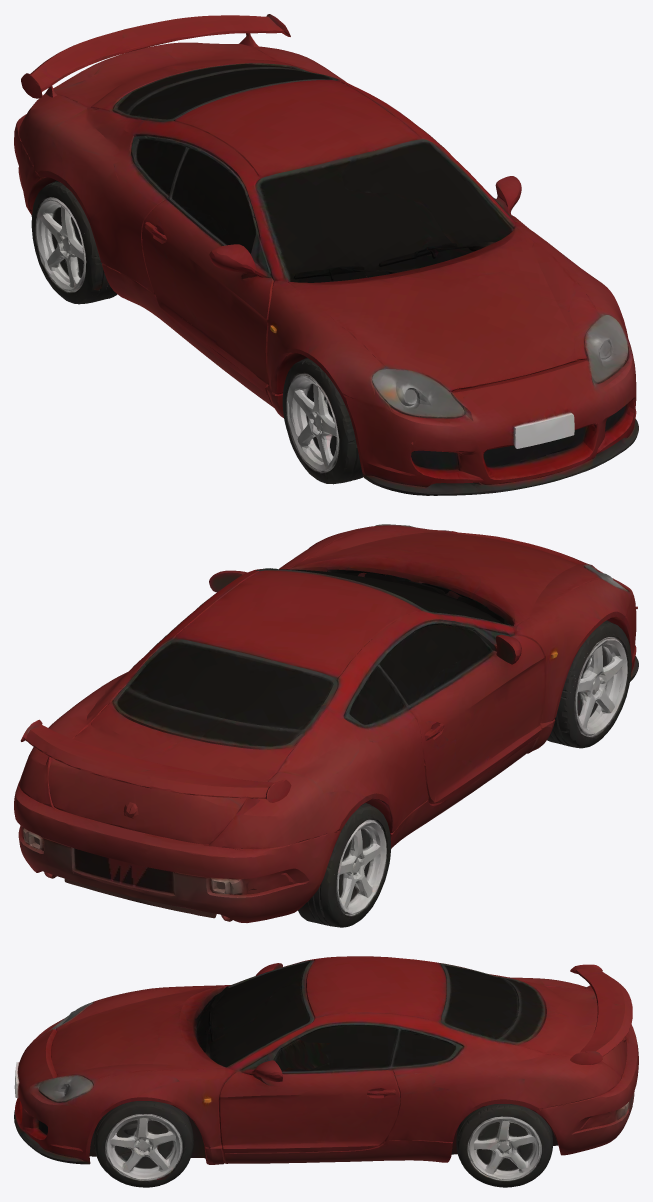
The model's file is fw_veh_coupe_vento_lod0.glb.
3 renders of one model, top to bottom at view 1: azimuth 30°, elevation 25°; view 2: azimuth 150°, elevation 25°; view 3: azimuth 270°, elevation 25°, orthographic. The views are drawn at different scales.
Visible parts, largest first — view 1: body, wheel_rr, wheel_rf; view 2: body, wheel_rf, wheel_rr; view 3: body, wheel_lf, wheel_lr.
Boxes of the visible parts, x1,y1,x2,y2 form: body: [14, 14, 638, 495]; wheel_rr: [31, 190, 117, 304]; wheel_rf: [282, 369, 359, 484]; body: [14, 524, 638, 923]; wheel_rf: [547, 632, 630, 748]; wheel_rr: [309, 814, 390, 927]; body: [14, 956, 638, 1177]; wheel_lf: [100, 1110, 190, 1187]; wheel_lr: [461, 1112, 550, 1187].
Bounding box in the file's own units: 1.83 × 1.22 × 4.4.
1 material, 1 textured.
